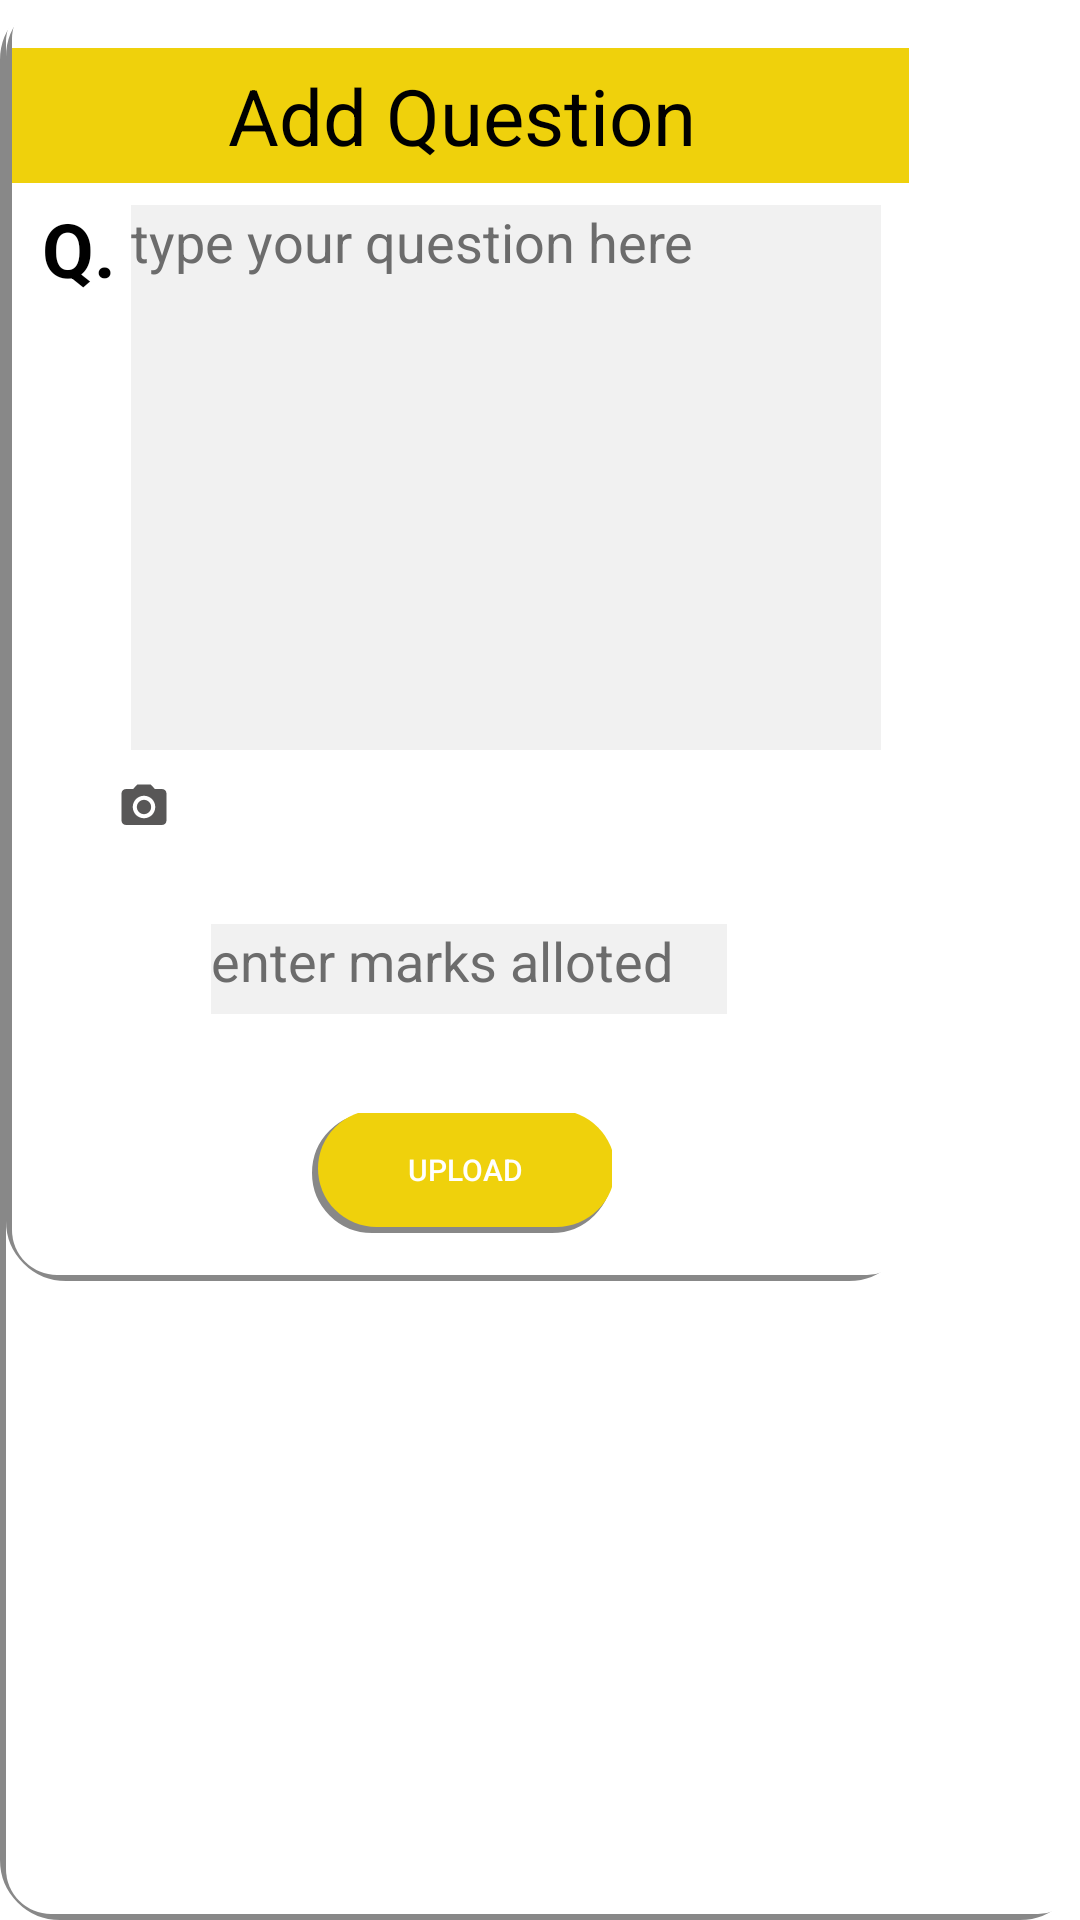

Screen size 1080 x 1920. Icon name, then its center in pixels as [x,y]:
camera: [144,804]
